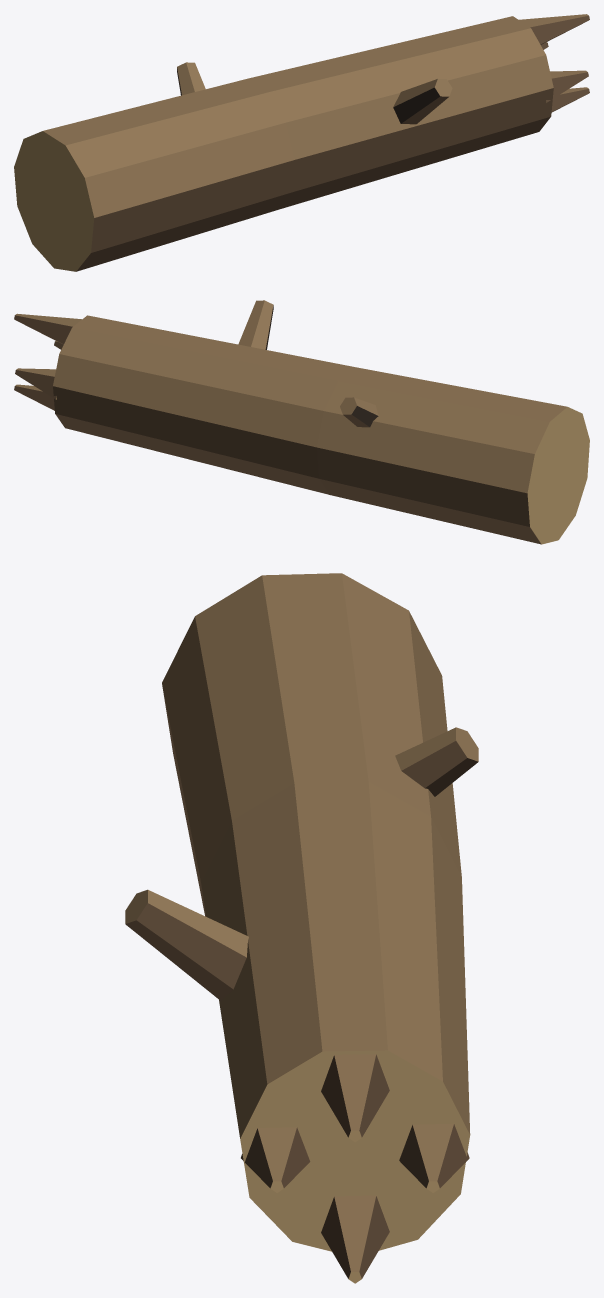
File: TW_PROP_LOG_BROKEN_B_LOD0.glb
The picture shows the model from 3 angles, top to bottom: view 1: azimuth 30°, elevation 25°; view 2: azimuth 150°, elevation 25°; view 3: azimuth 270°, elevation 25°; orthographic projection. The views are drawn at different scales.
Parts seen in each view (by area): view 1: TW_PROP_LOG_BROKEN_B_LOD0; view 2: TW_PROP_LOG_BROKEN_B_LOD0; view 3: TW_PROP_LOG_BROKEN_B_LOD0.
Boxes of the visible parts, x1,y1,x2,y2 form: TW_PROP_LOG_BROKEN_B_LOD0: [14, 14, 589, 271]; TW_PROP_LOG_BROKEN_B_LOD0: [14, 300, 589, 544]; TW_PROP_LOG_BROKEN_B_LOD0: [125, 573, 478, 1283].
Bounding box in the file's own units: 2.09 × 0.4873 × 0.5983.
Materials: 1 (1 with a texture image).
